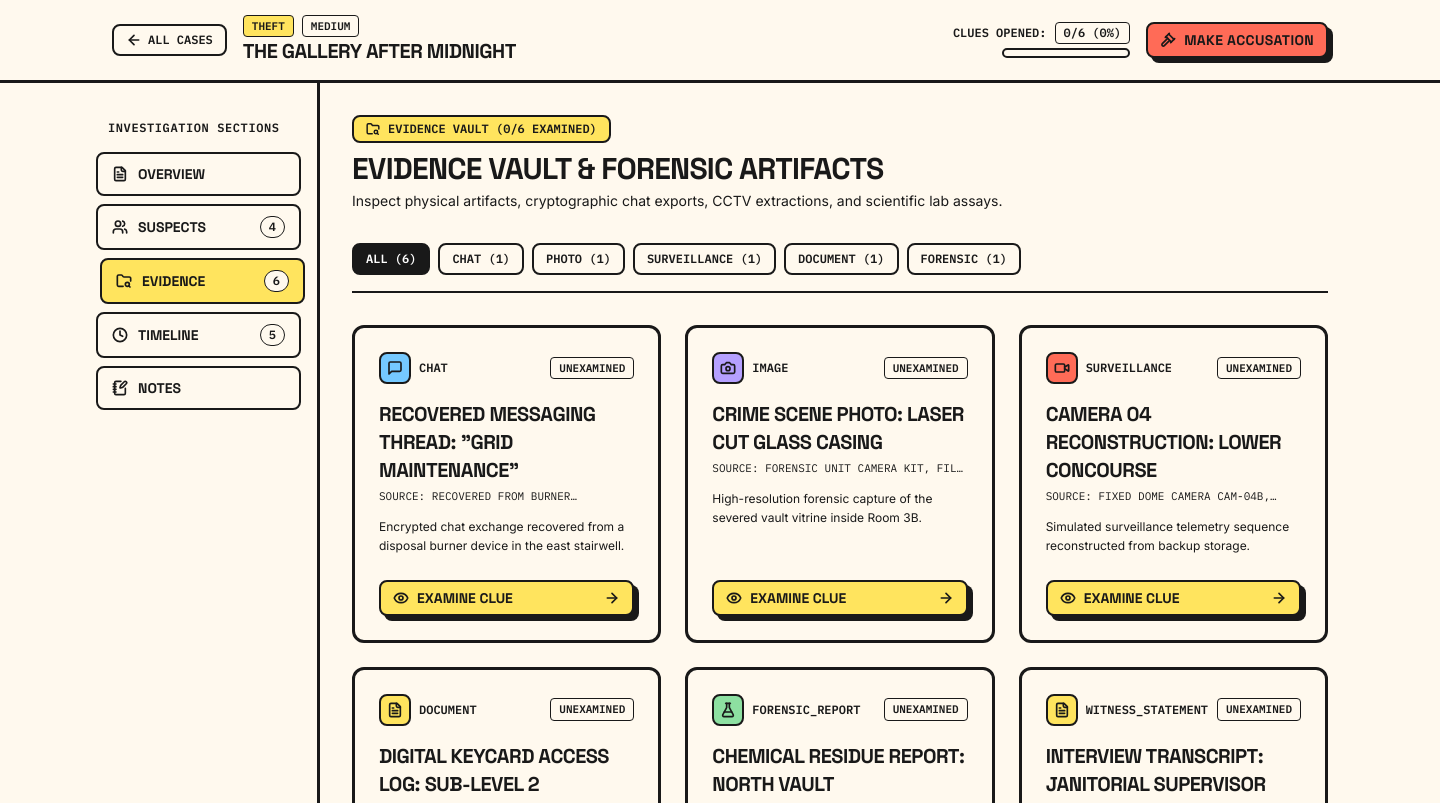
Scenario: Investigation Workspace › renders EvidenceView with category filter tabs and clue cards
Expected: the heading "EVIDENCE VAULT & FORENSIC ARTIFACTS" is shown, [352,149,883,188]
Expected: the heading "Recovered Messaging Thread: \"Grid Maintenance\"" is shown, [379,401,596,483]
# Filter by CHAT
Click the button "CHAT (1)".
click(481, 259)  # box [438,243,524,275]
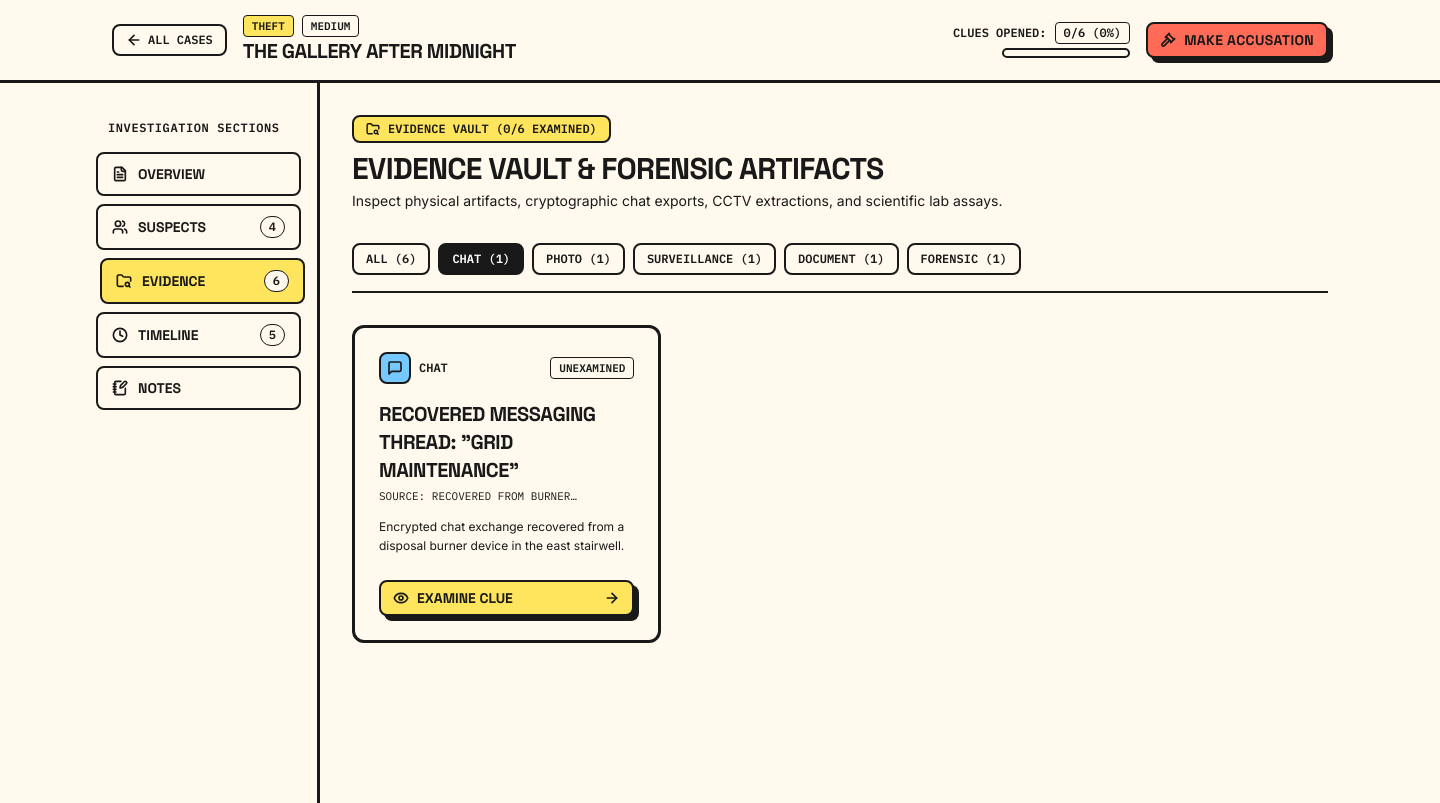
Expected: the heading "Recovered Messaging Thread: \"Grid Maintenance\"" is shown, [379,401,596,483]
Expected: the heading "Digital Keycard Access Log: Sub-Level 2" is gone
